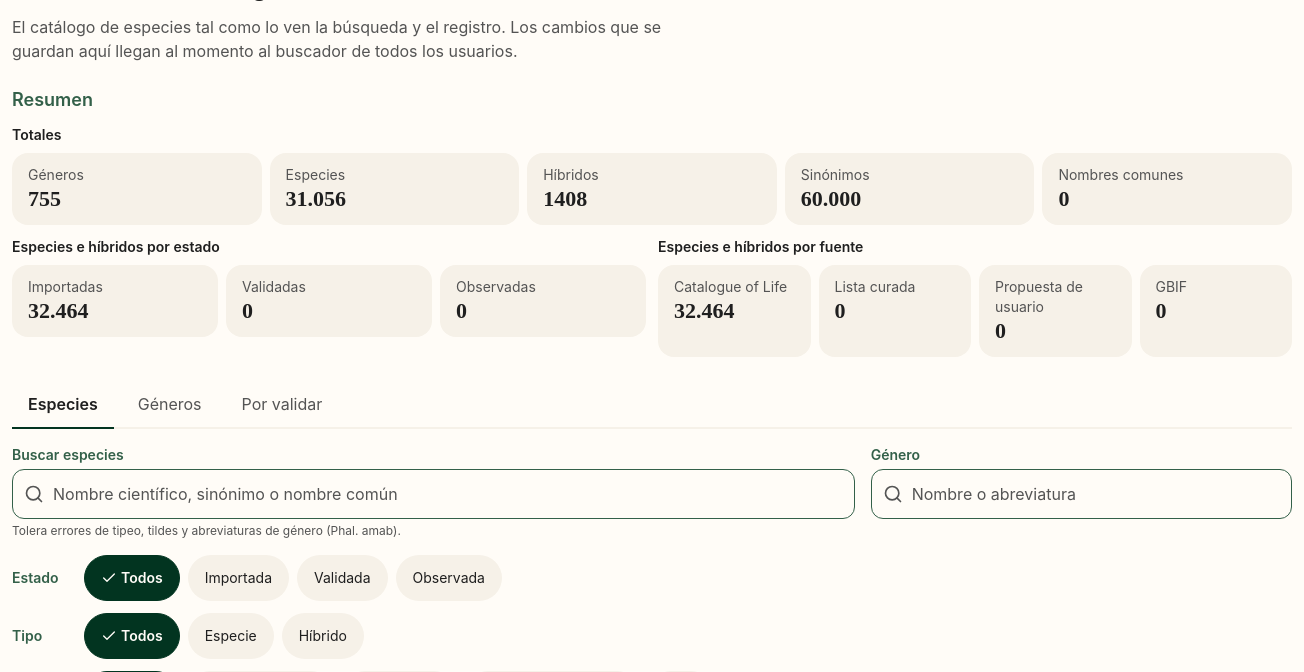
Test: CatalogAdminPage › cambiar un filtro vuelve a la primera página y lo envía a la base
Later steps or results of the test are not shown.
Click the button "Híbrido": (323, 636) x1=282 y1=613 x2=364 y2=659
(page scrolled)
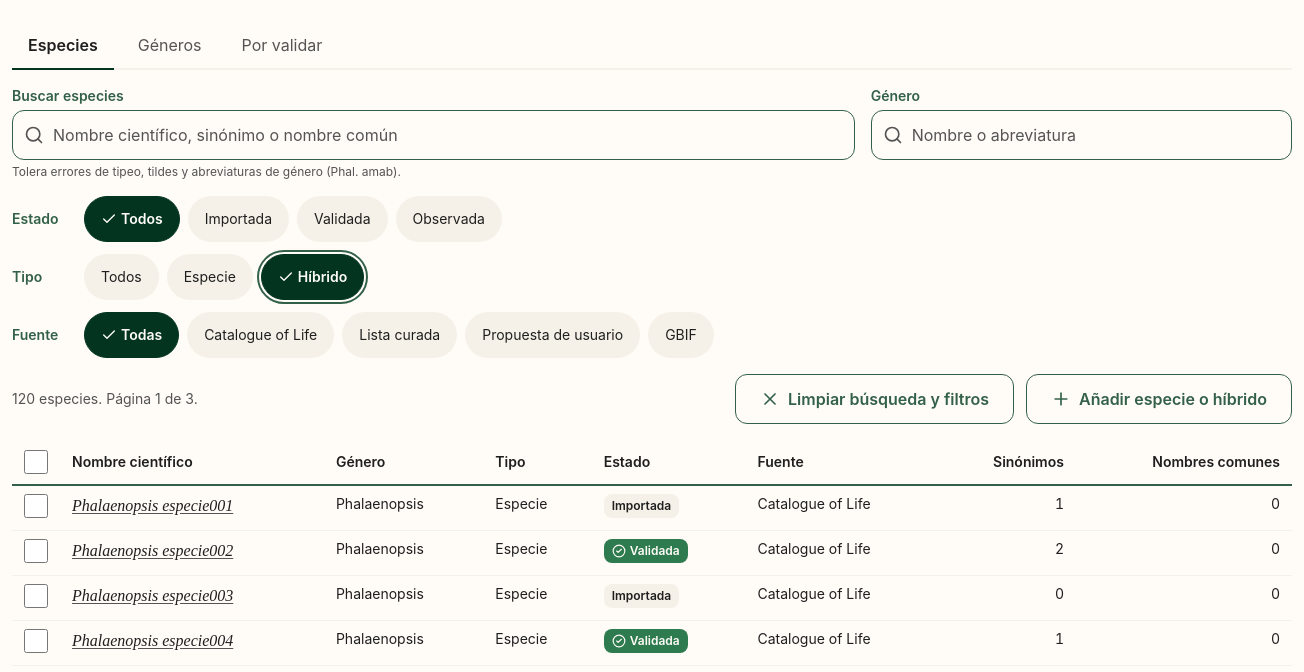
Now the link "Phalaenopsis especie001" is shown, box x1=72 y1=497 x2=233 y2=514
